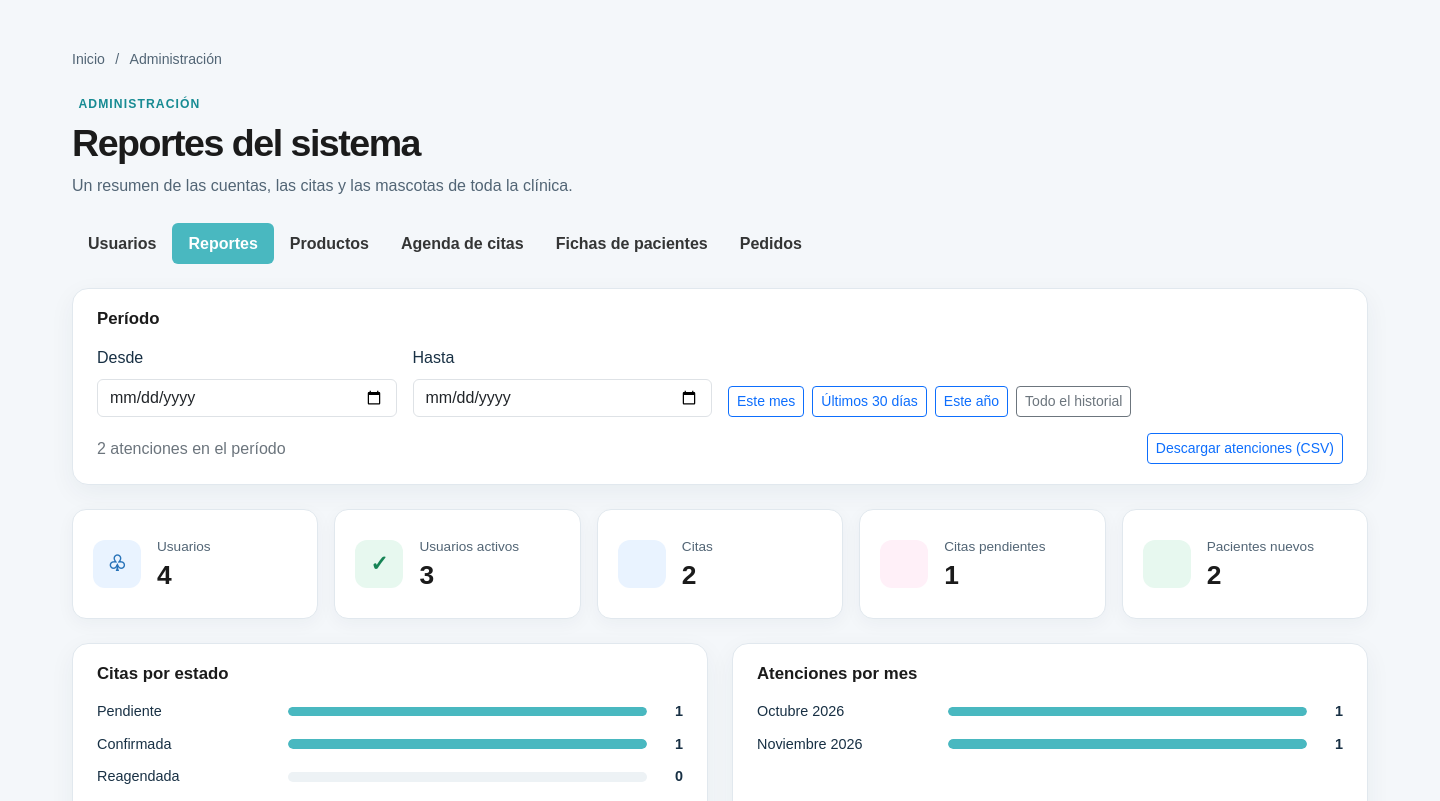
Test case: Reportes (administración) › período y exportación › avisa cuando «Desde» es posterior a «Hasta» y no oculta los datos
In the date field labelled "Desde": (247, 398) [97,379,396,417], type "2026-12-01"
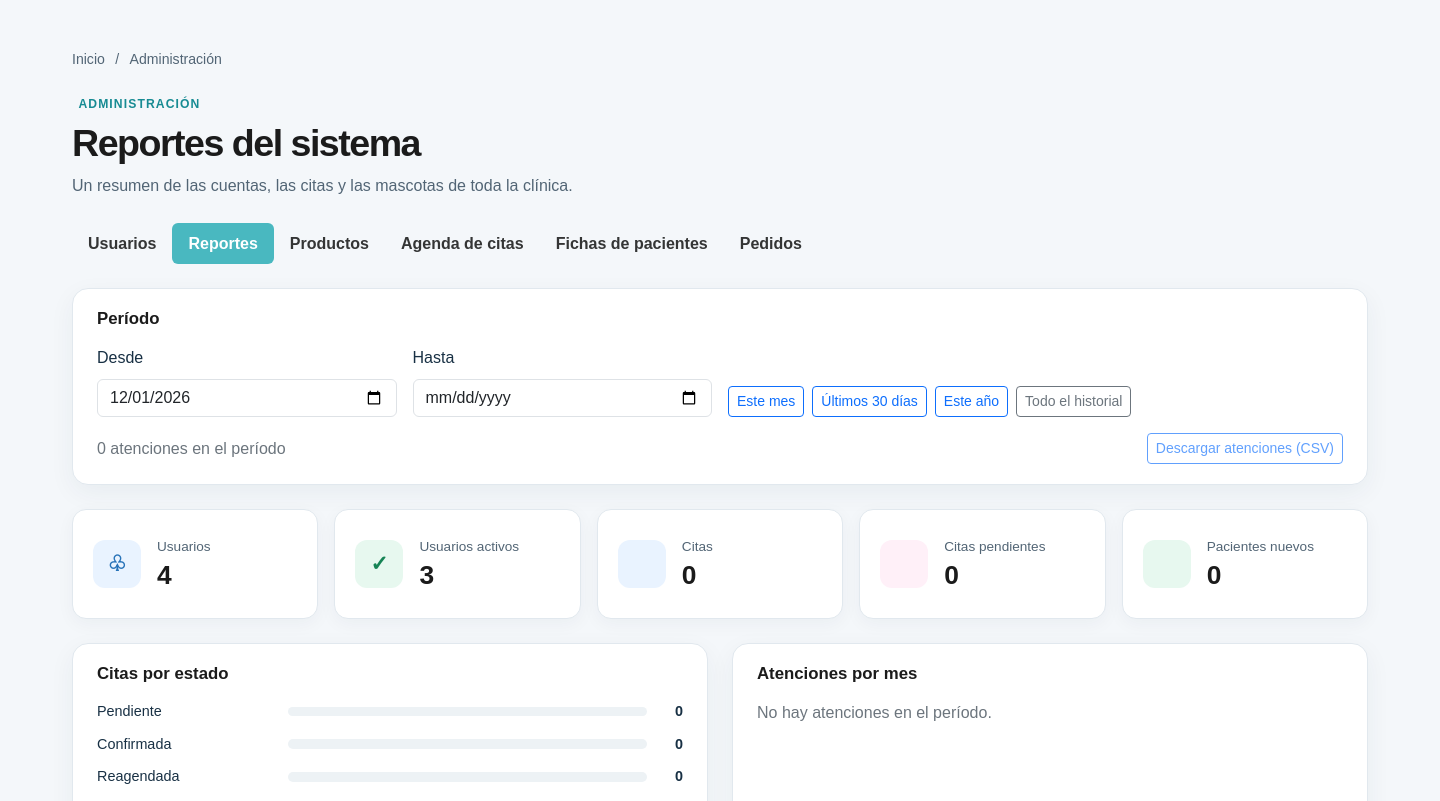
In the date field labelled "Hasta": (562, 398) [412,379,712,417], type "2026-11-01"
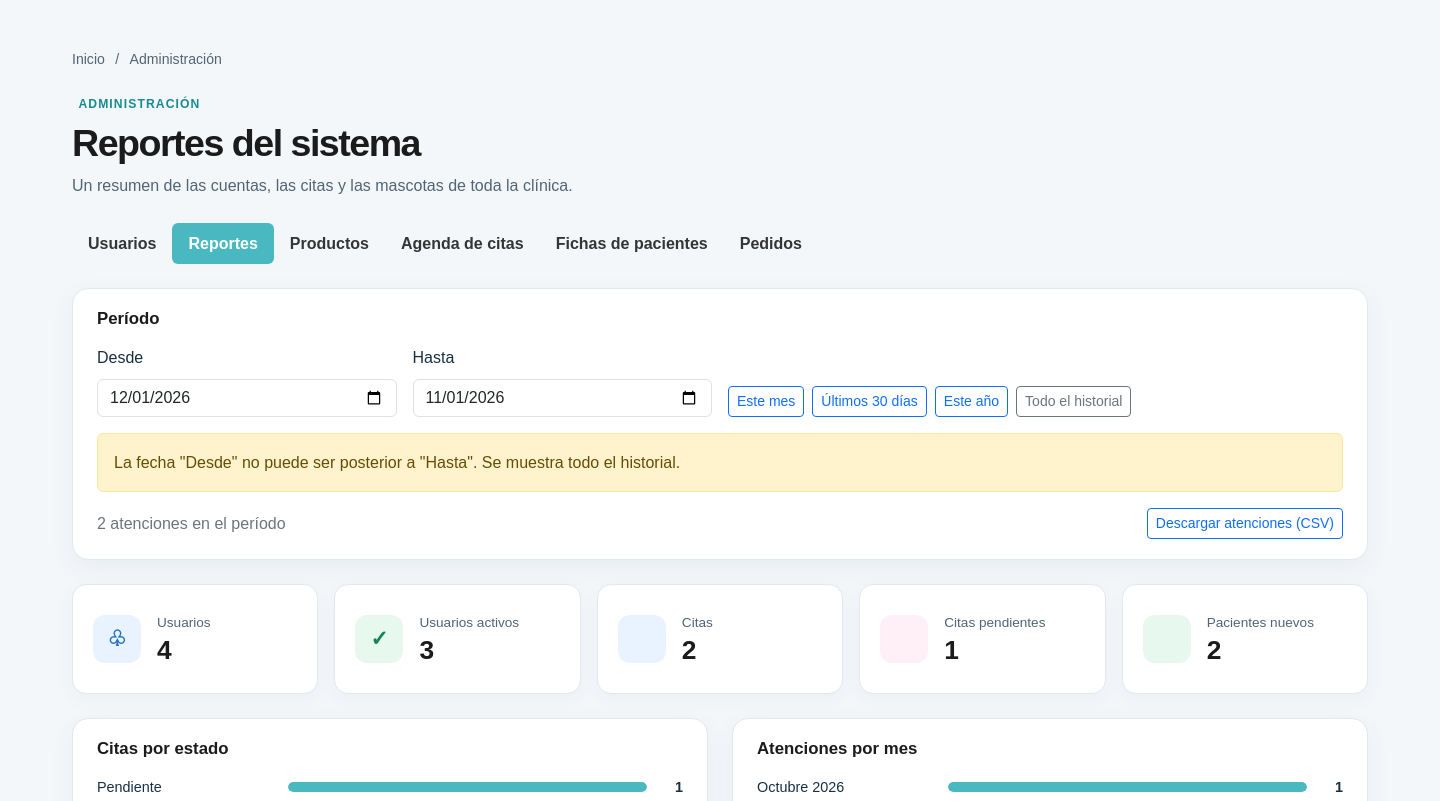
Result: the message shows "no puede ser posterior" at [114,454,680,471]
Result: the text "2 atenciones en el período" is shown at [97,511,286,537]
